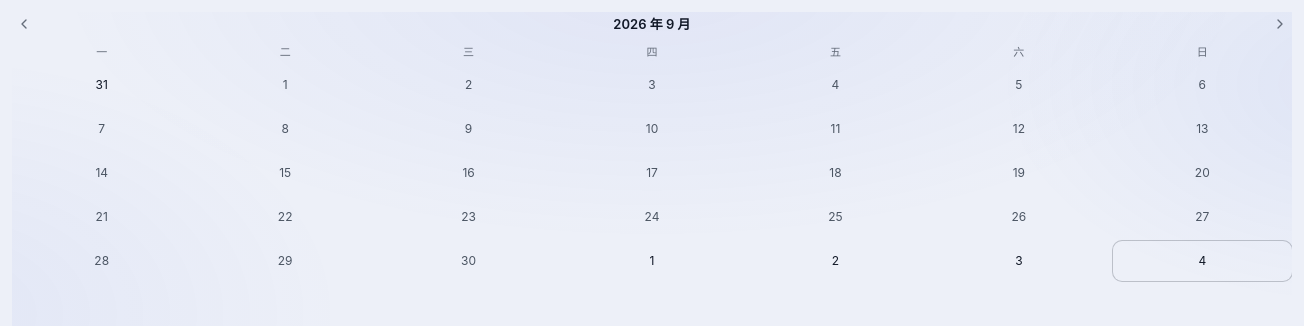
it: MonthCalendar › 可以切换上一个月与下一个月
Expected: the text "2026 年 9 月" is shown, [613,14,691,34]
Click the button named "上一月" at (24, 24), box [12,12,36,36]
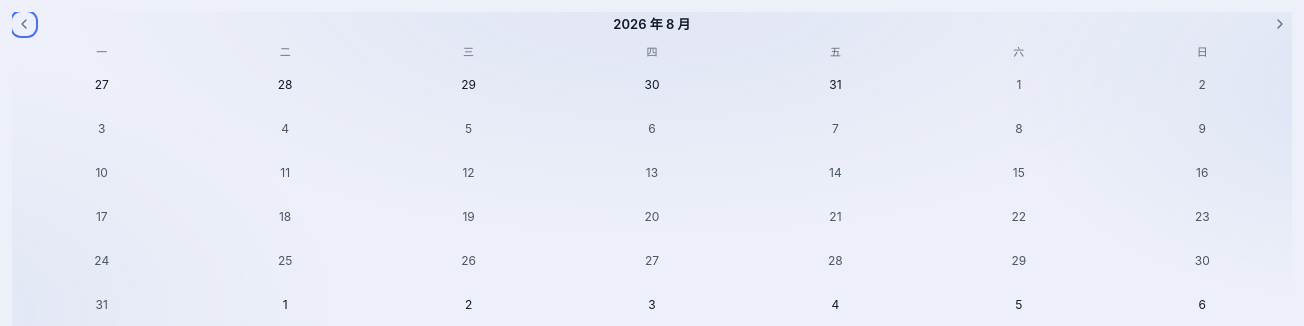
Expected: the text "2026 年 8 月" is shown, [613,14,691,34]
Click the button named "下一月" at (1280, 24), box [1268,12,1292,36]
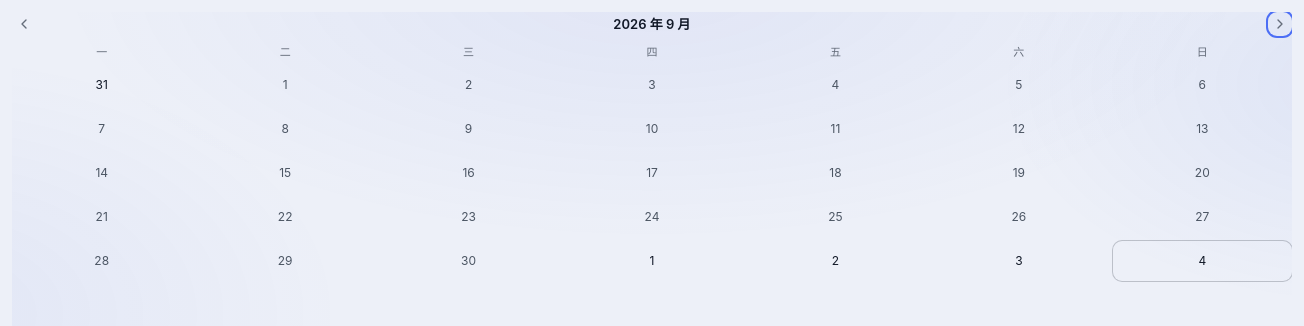
Click the button named "下一月" at (1280, 24), box [1268,12,1292,36]
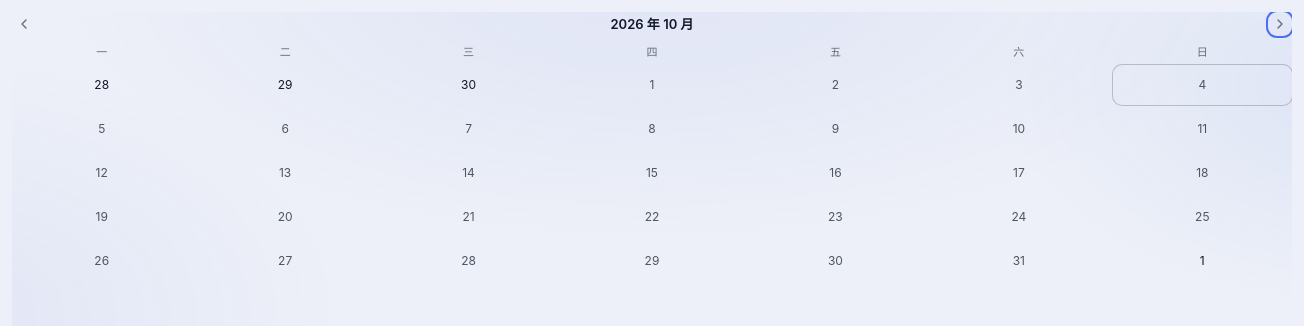
Expected: the text "2026 年 10 月" is shown, [610,14,694,34]
